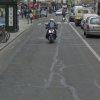Motorcycle: (40, 11, 70, 49)
